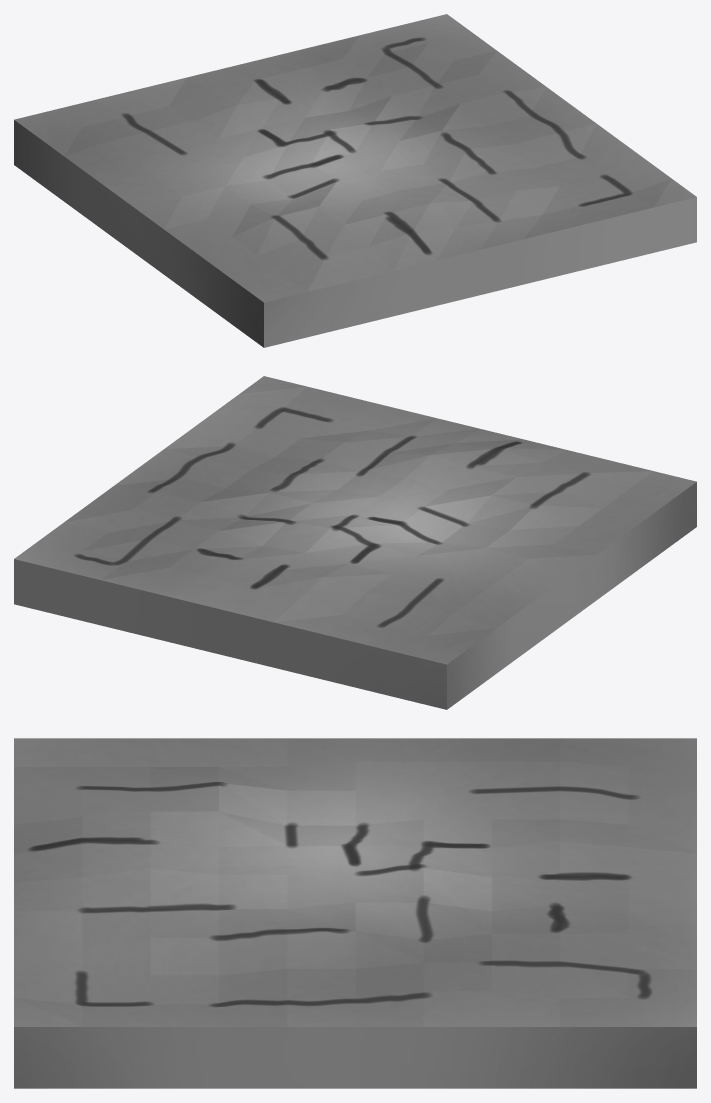
The model's file is floor.fbx.
3 views of the same model, one above another, from view 1: azimuth 30°, elevation 25°; view 2: azimuth 150°, elevation 25°; view 3: azimuth 270°, elevation 25° (orthographic). The views are drawn at different scales.
Parts seen in each view (by area): view 1: Cube; view 2: Cube; view 3: Cube.
Boxes of the visible parts, x1,y1,x2,y2 form: Cube: [14, 14, 696, 347]; Cube: [14, 376, 696, 709]; Cube: [14, 738, 696, 1088].
Size of the model in its own units: 100 by 12.3 by 100.
1 material, 1 textured.
